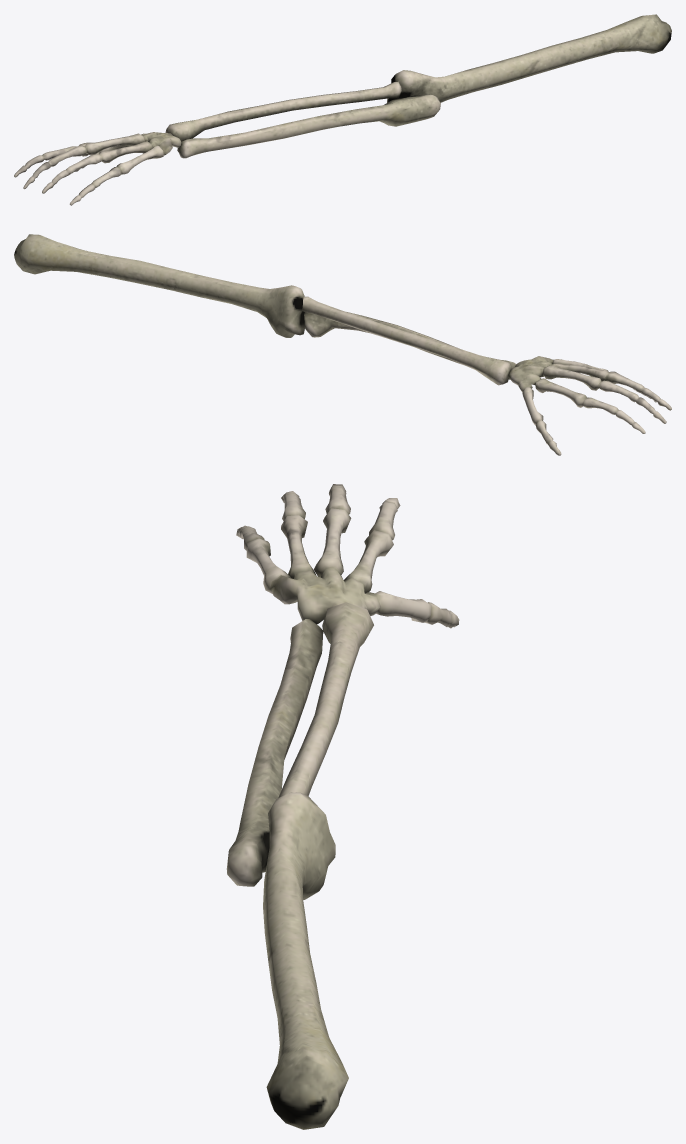
File: SM_SkeletonArm.fbx
The picture shows the model from 3 angles, top to bottom: view 1: azimuth 30°, elevation 25°; view 2: azimuth 150°, elevation 25°; view 3: azimuth 270°, elevation 25°; orthographic projection. The views are drawn at different scales.
Visible parts, largest first — view 1: SM_SkeletonArm_LOD0; view 2: SM_SkeletonArm_LOD0; view 3: SM_SkeletonArm_LOD0.
Part boxes in pixels (x1,y1,x2,y2): SM_SkeletonArm_LOD0: (14, 14, 671, 205); SM_SkeletonArm_LOD0: (14, 234, 671, 455); SM_SkeletonArm_LOD0: (226, 484, 459, 1129).
Bounding box in the file's own units: 77.91 × 12.27 × 7.16.
1 material, 1 textured.
